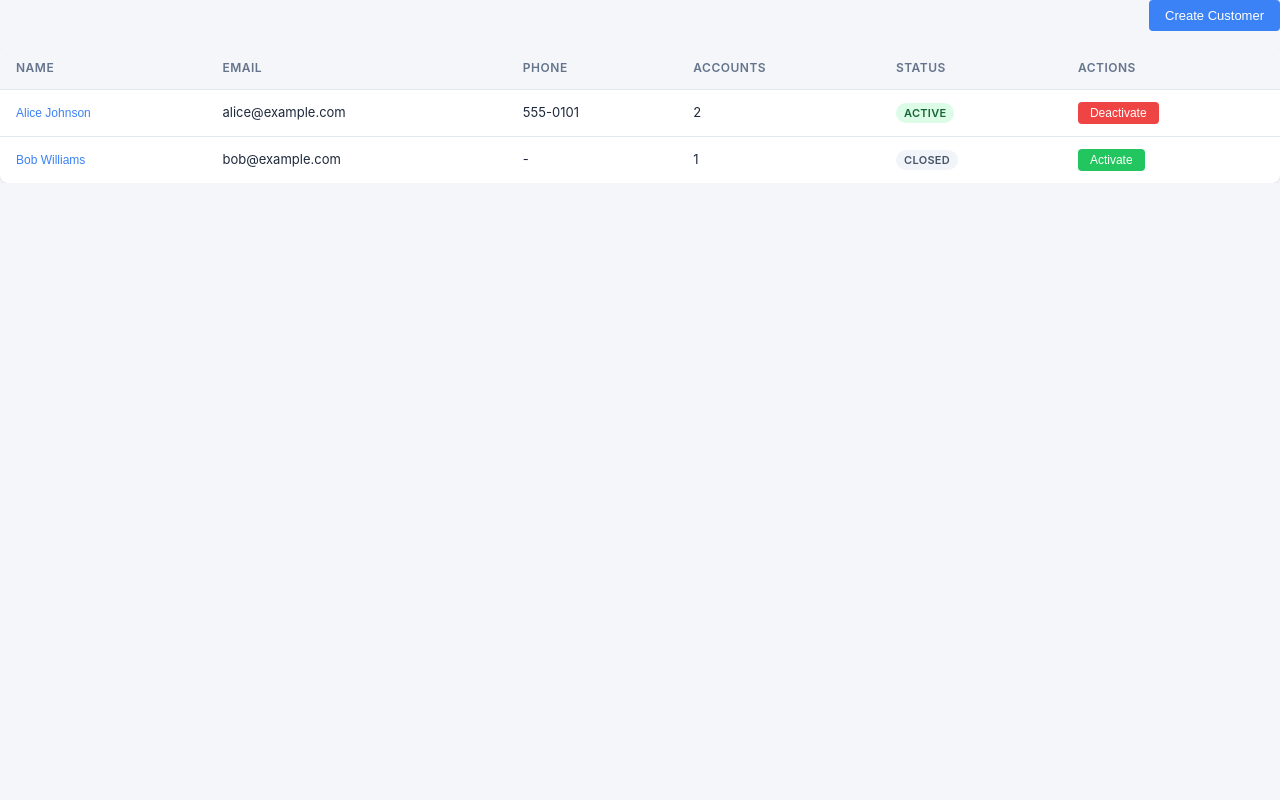
Test: CustomersPage › opens deactivate confirm dialog
Click the button "Deactivate". click: (1118, 113)
box: [1078, 102, 1159, 124]
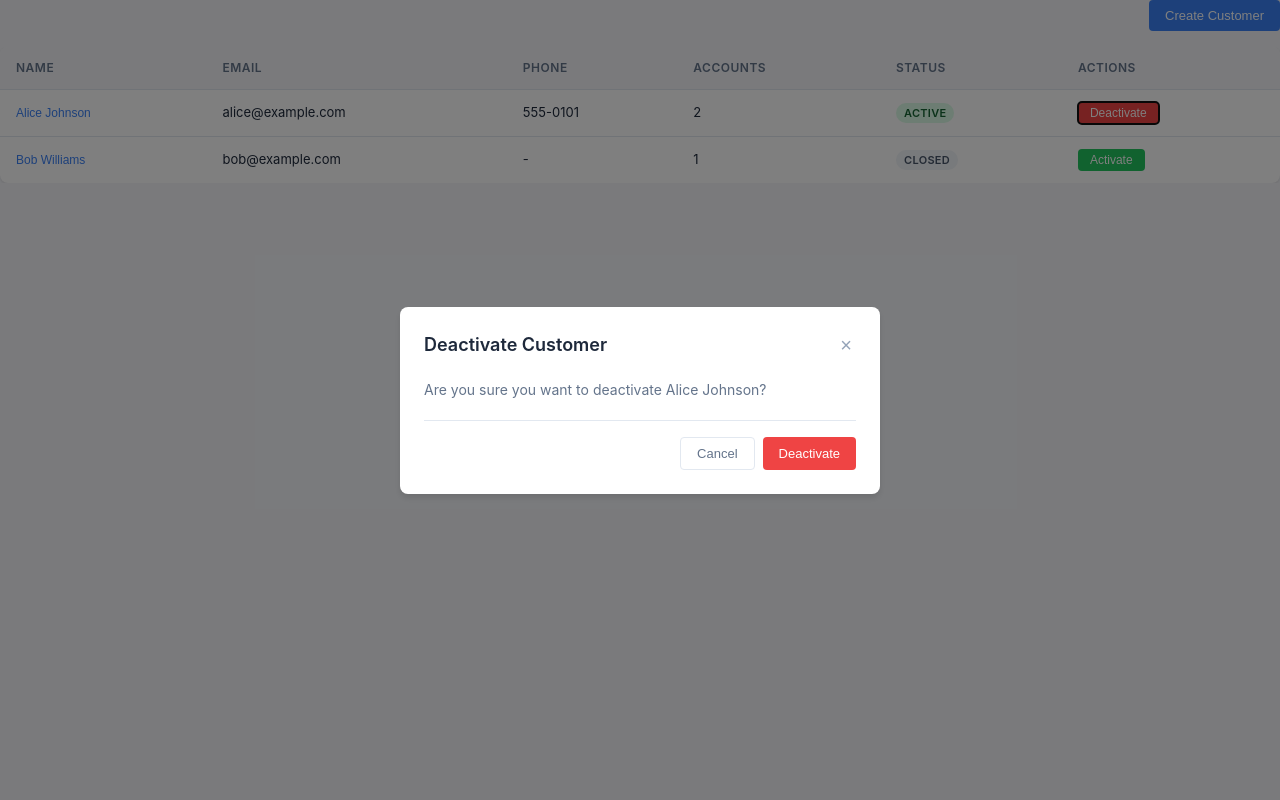
Expected: the text "Are you sure you want to deactivate Alice Johnson?" is shown, [424, 380, 766, 398]
